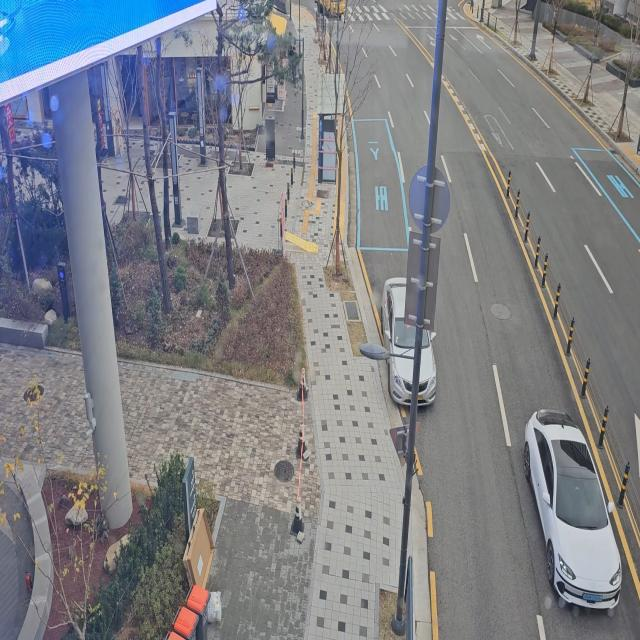Bus: (317, 0, 348, 17)
Car: (516, 387, 634, 620), (377, 265, 447, 424)
